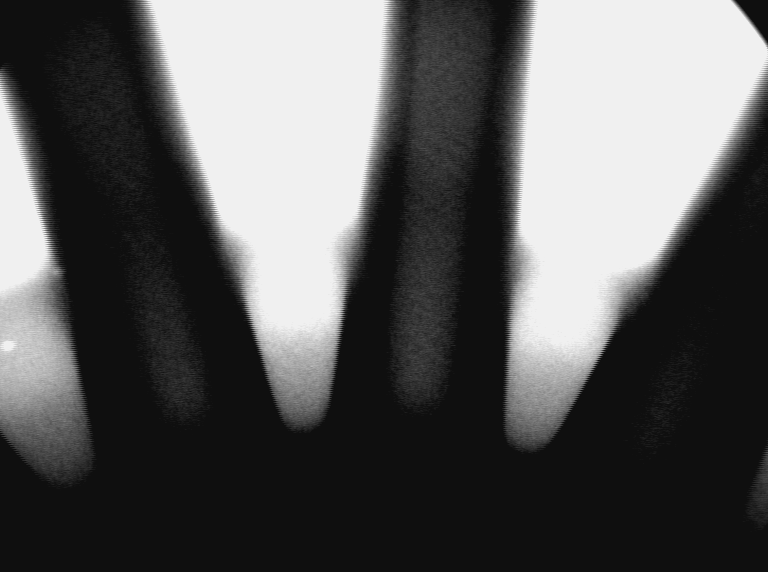defect: (2, 338, 19, 355)
